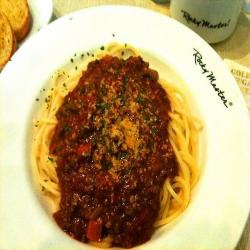bolonese_pasta: (45, 53, 187, 227)
